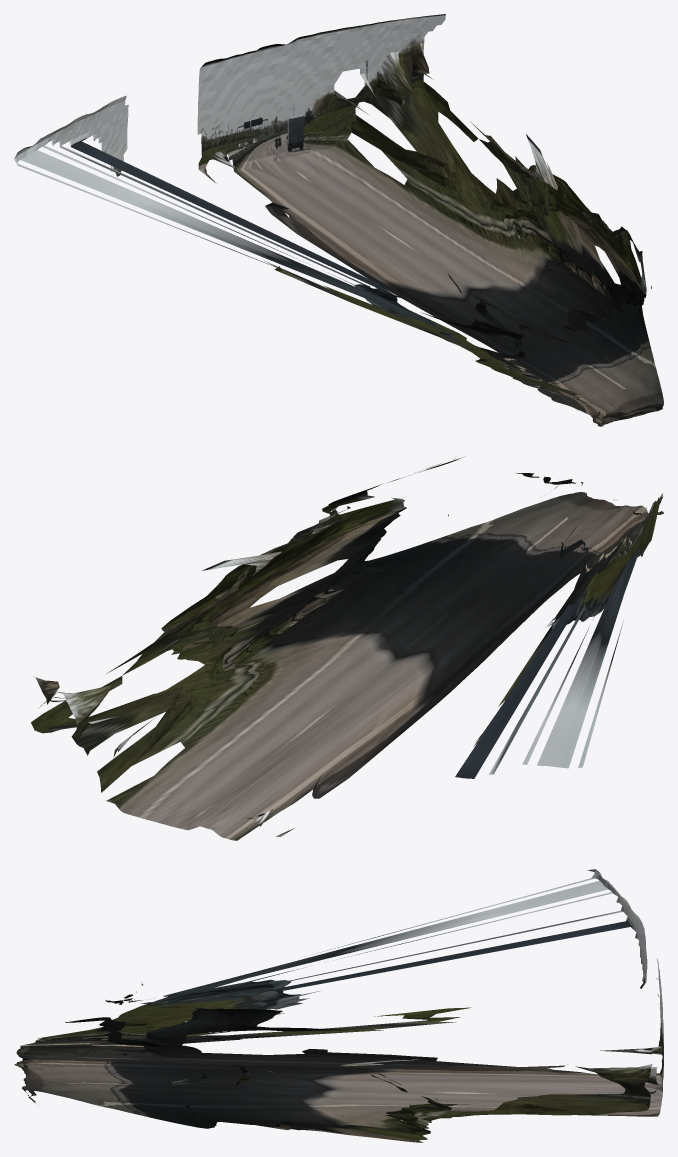
3 renders of one model, top to bottom at view 1: azimuth 30°, elevation 25°; view 2: azimuth 150°, elevation 25°; view 3: azimuth 270°, elevation 25°, orthographic. The views are drawn at different scales.
Visible parts, largest first — view 1: defaultobject; view 2: defaultobject; view 3: defaultobject.
Part boxes in pixels (bbox=[...]): defaultobject: bbox=[14, 14, 663, 426]; defaultobject: bbox=[31, 457, 663, 840]; defaultobject: bbox=[14, 869, 663, 1142].
Size of the model in its own units: 32.15 by 8.21 by 44.77.
1 material, 1 textured.
